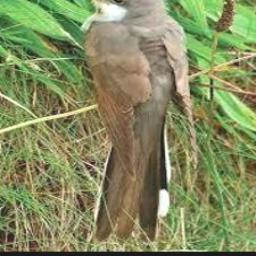Cuckoo: (69, 0, 191, 237)
